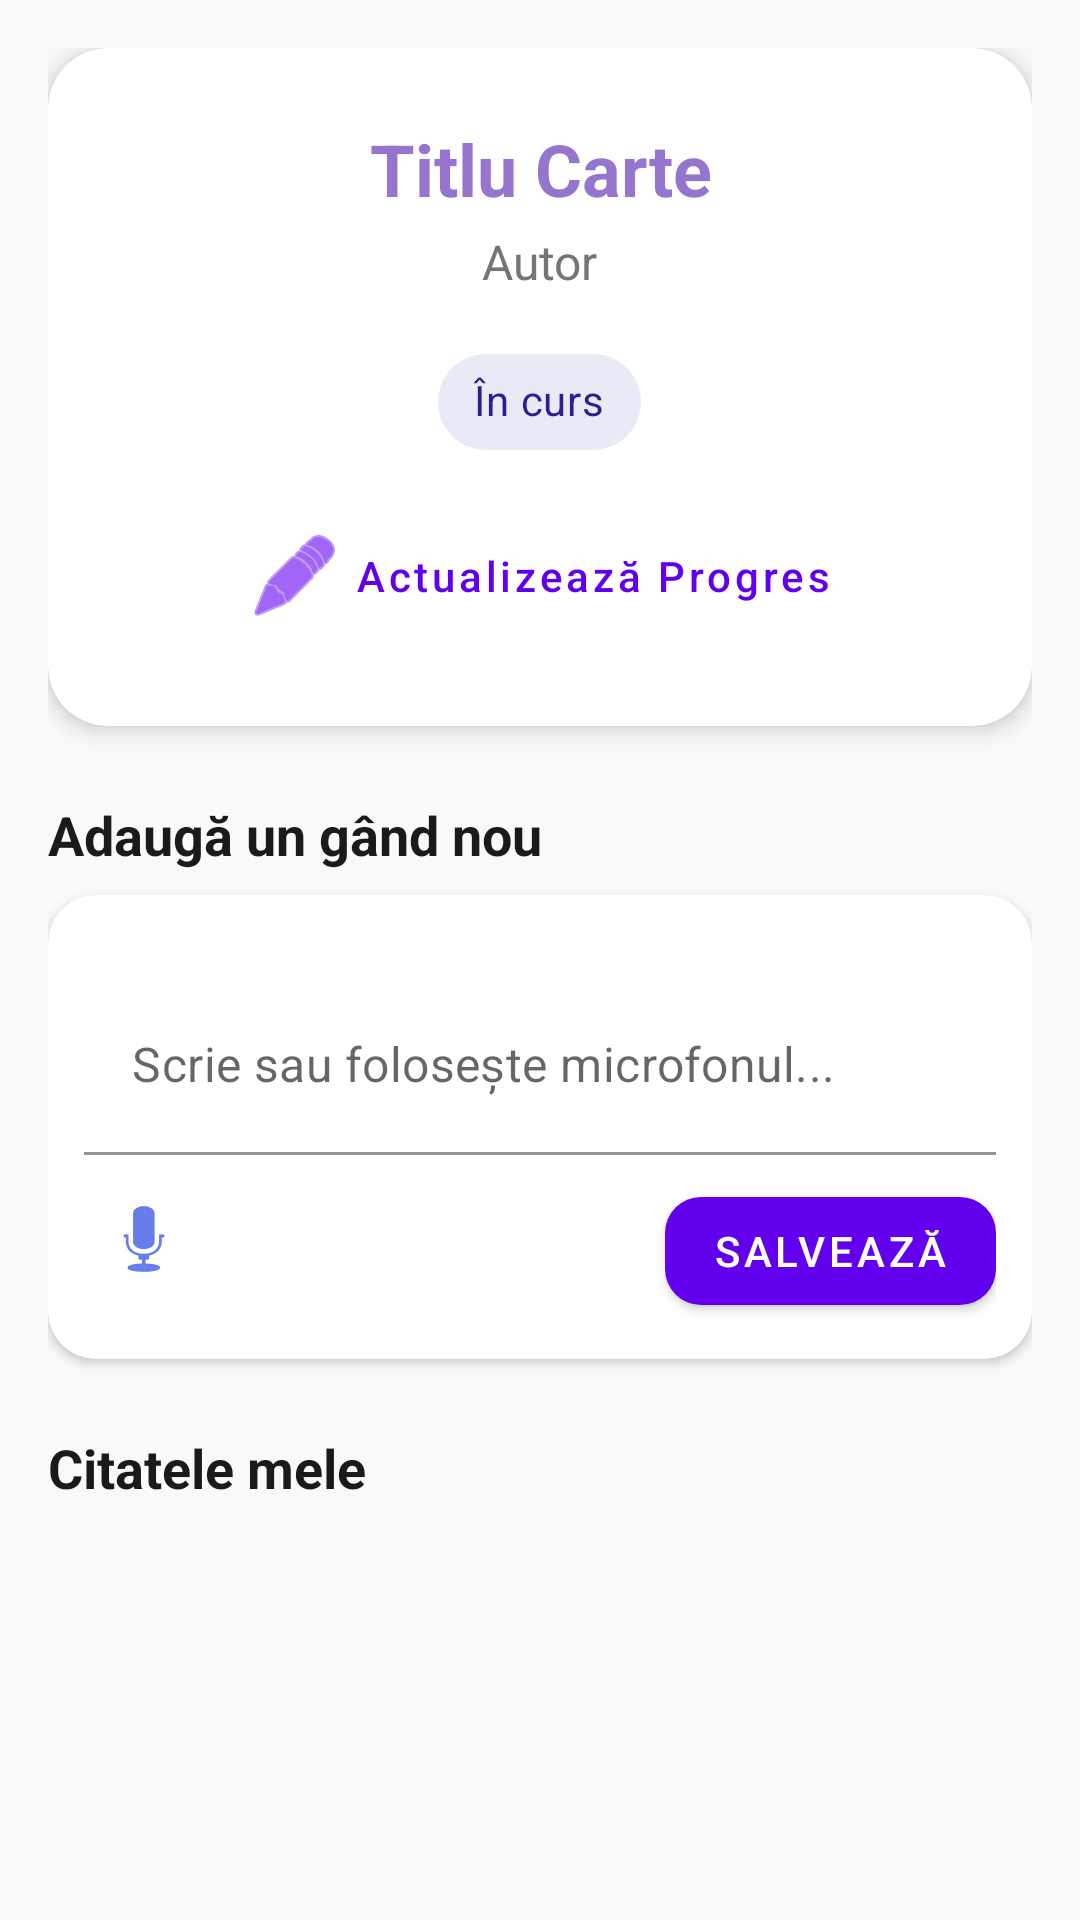

Icons on this 1080*1920 Android screen, each with its box as (x1, y1, x2, y2):
speak now: (123, 1206, 165, 1272)
